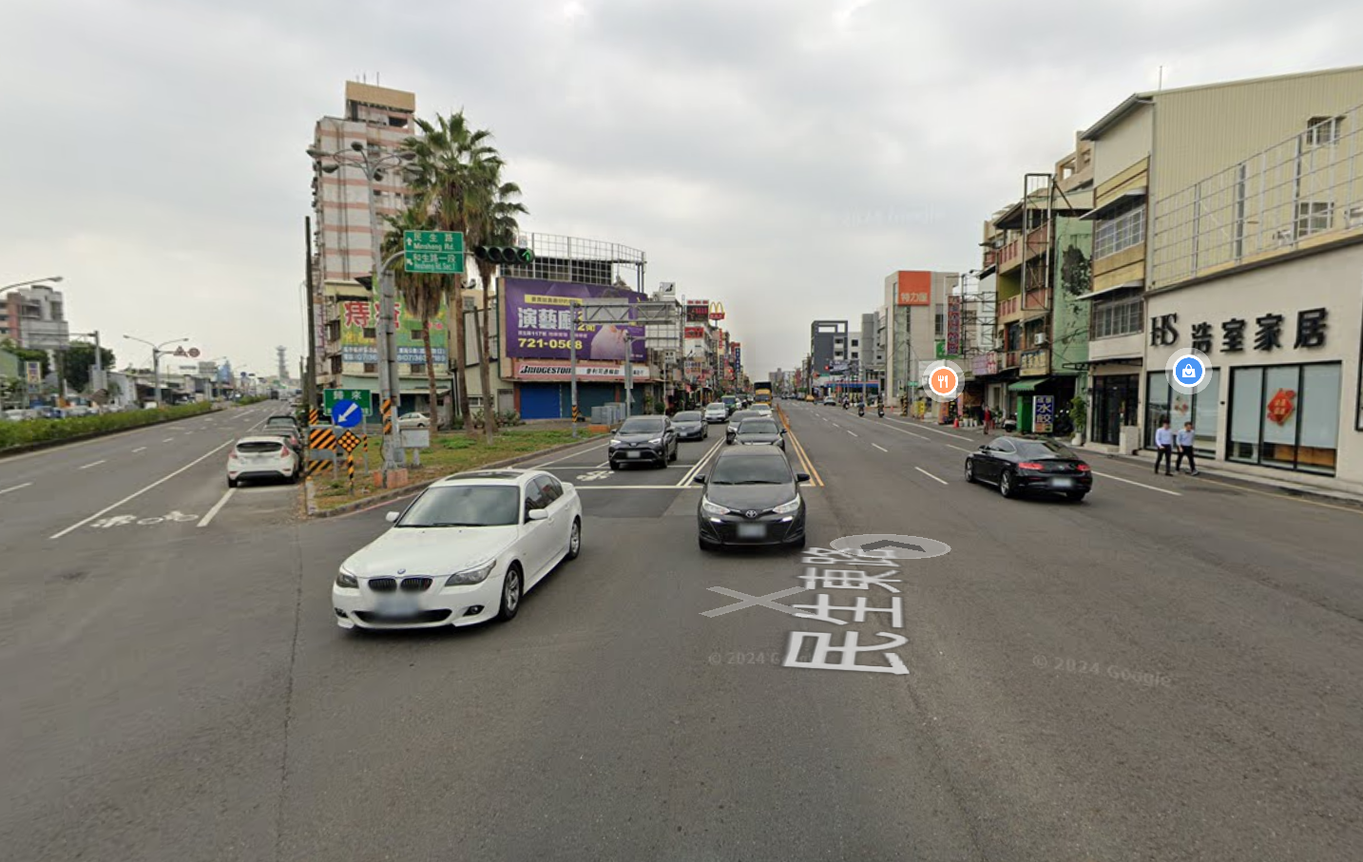green: (470, 239, 535, 268)
